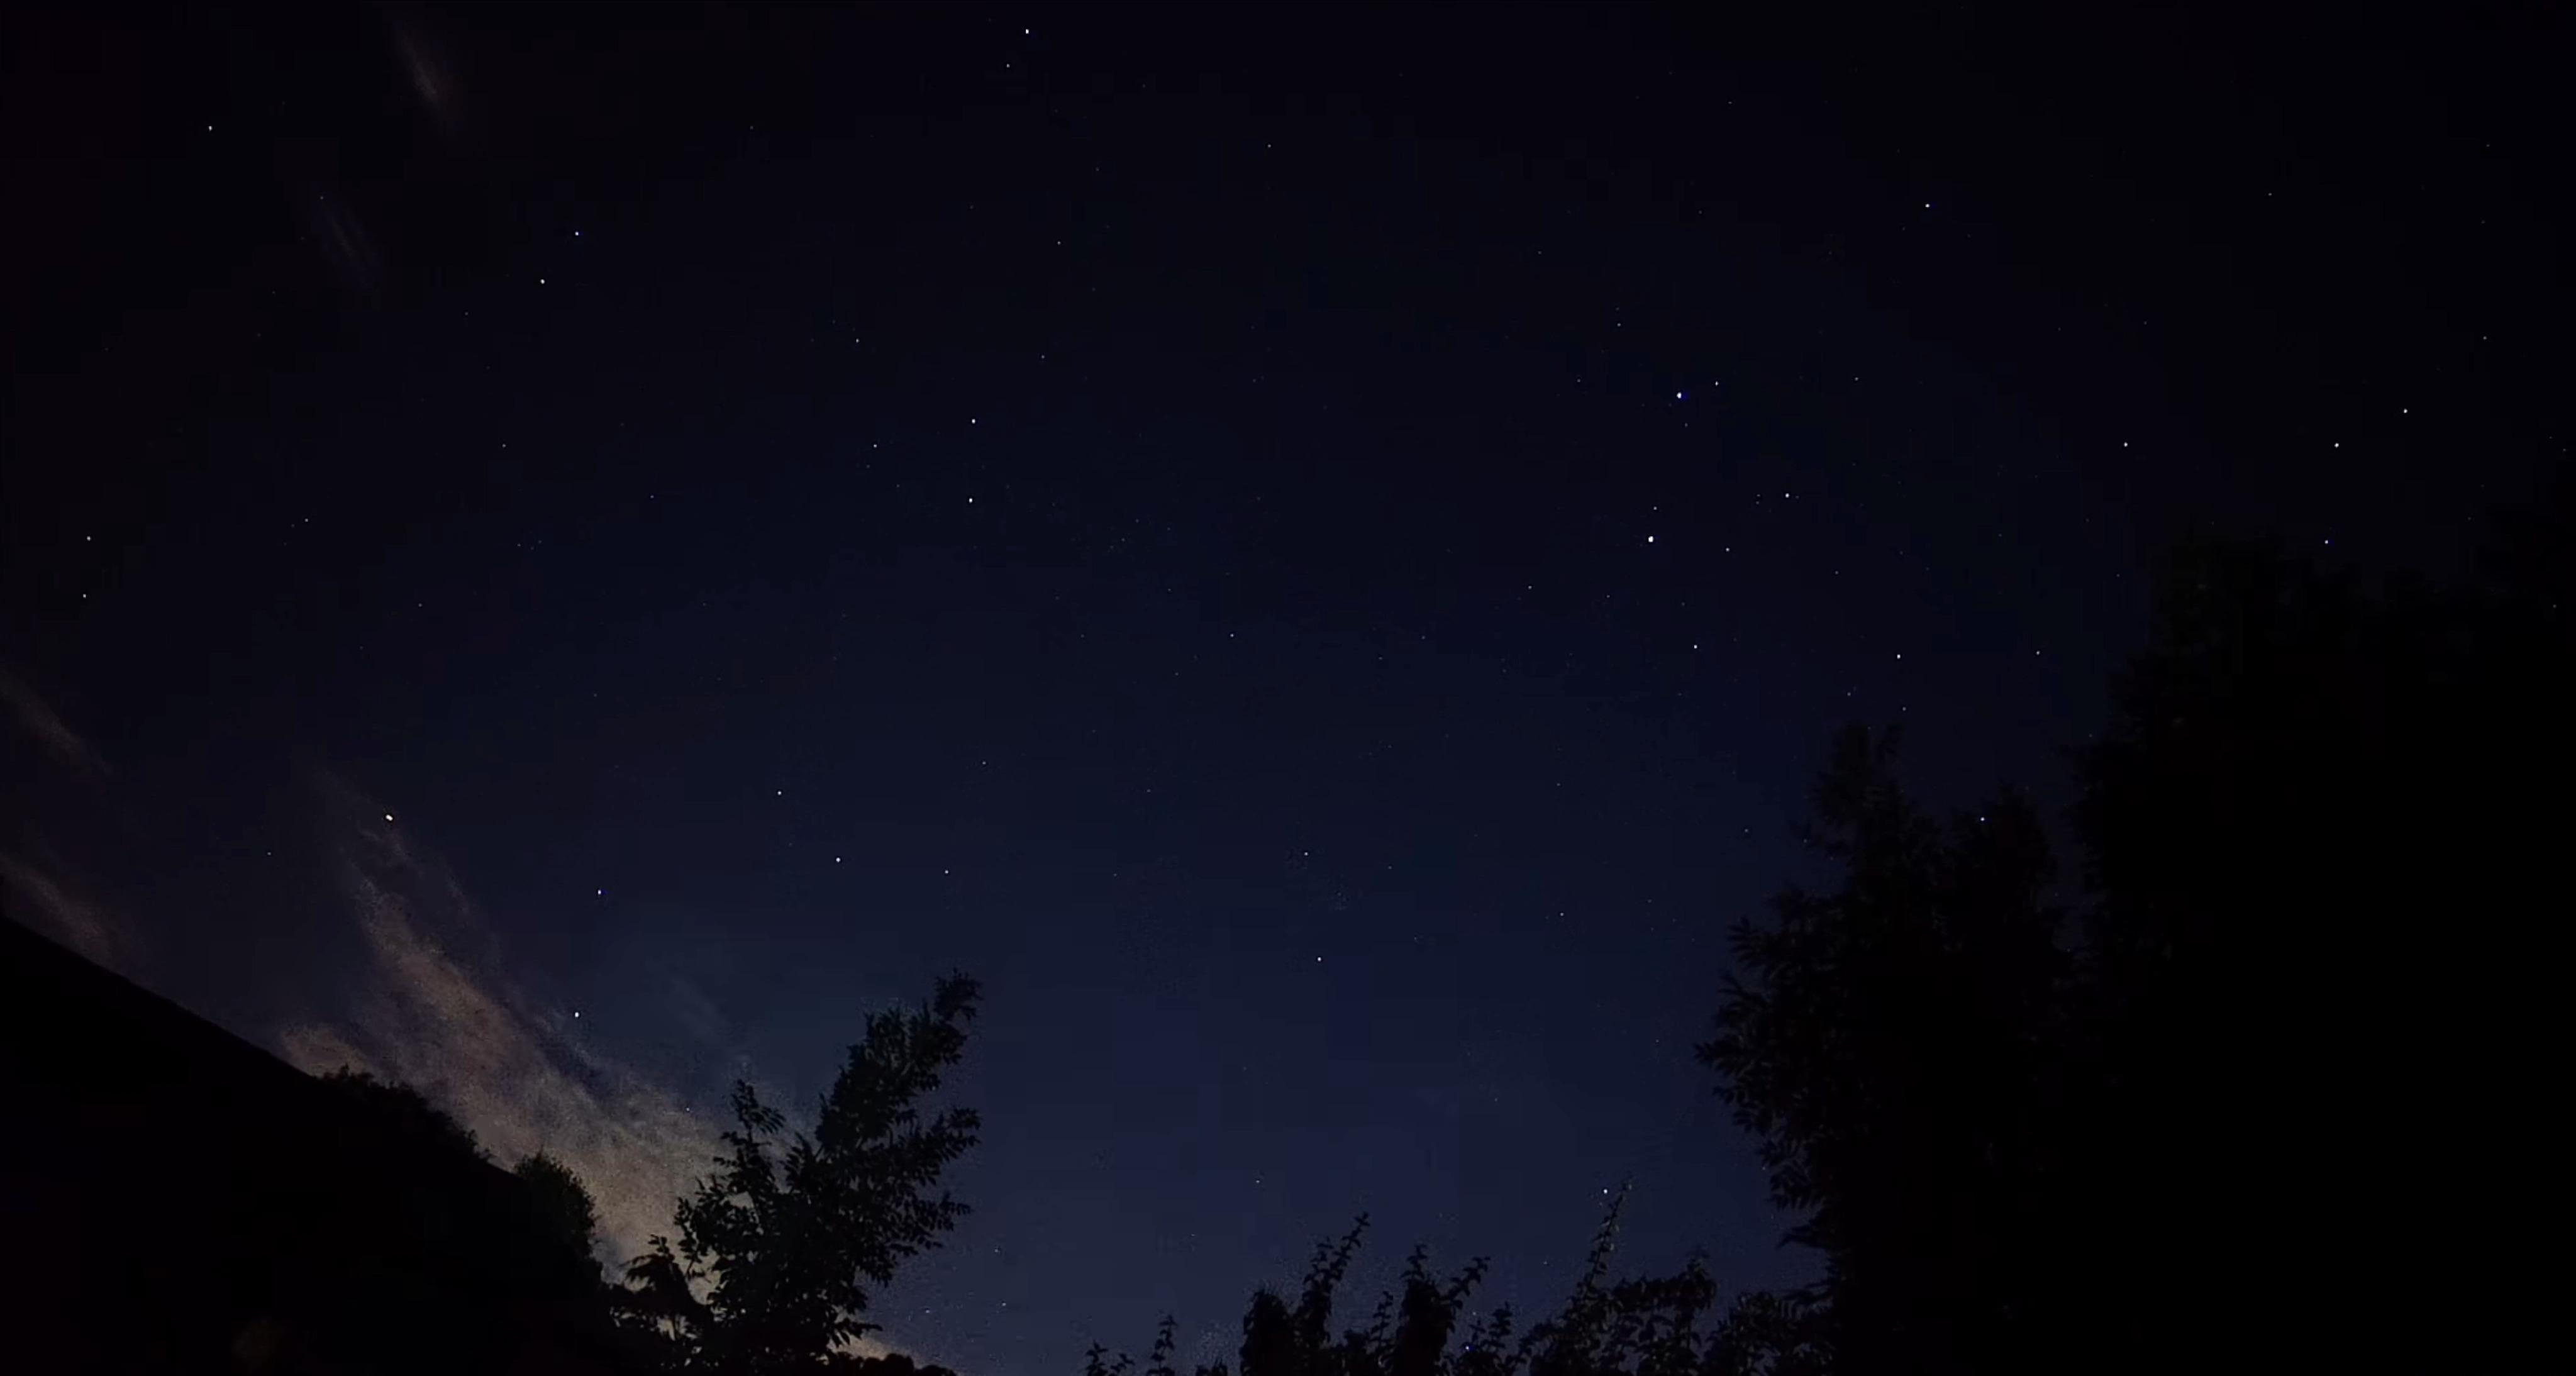Plane: (378, 804, 412, 838)
